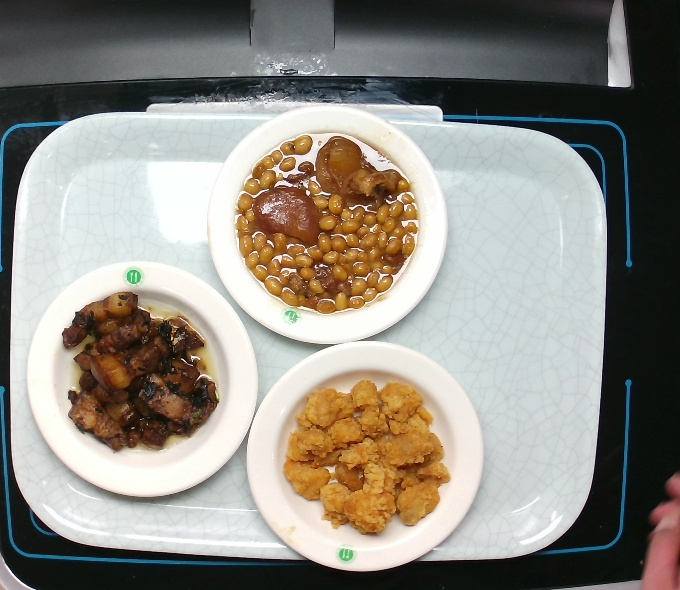wcq-GanCaiRou: (58, 284, 228, 457)
wcq-HuangDouZhuJiao: (228, 123, 426, 323)
wcq-JiMiHua: (277, 375, 456, 541)
